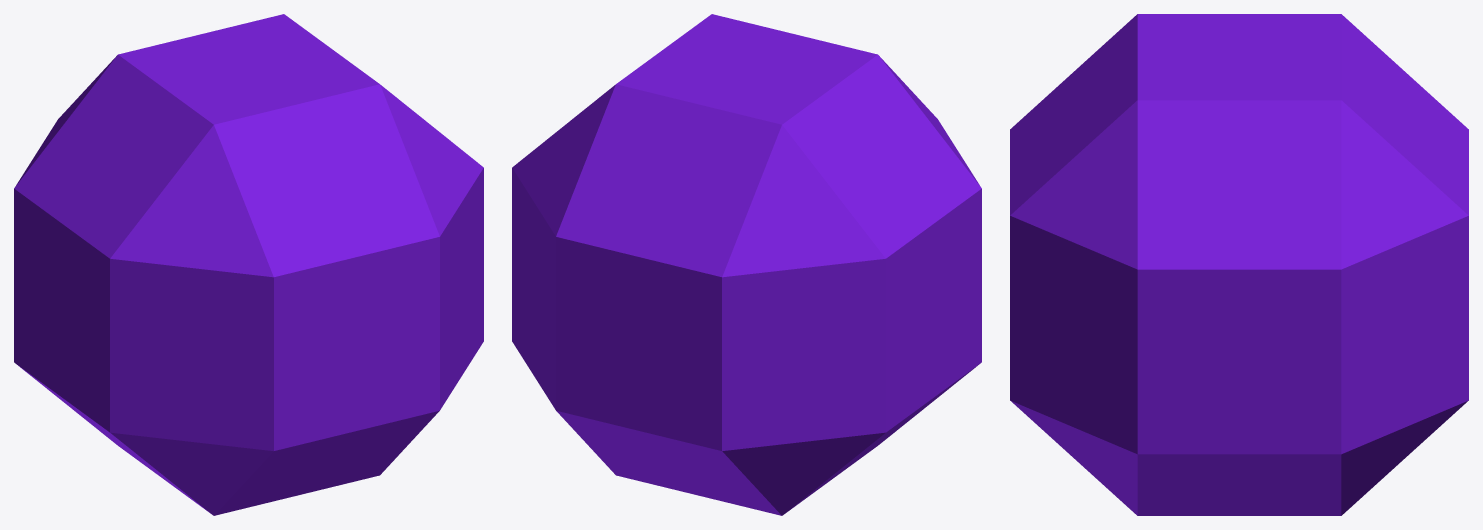
File: model_3351_spotanim.obj
3 renders of one model, left to right at view 1: azimuth 30°, elevation 25°; view 2: azimuth 150°, elevation 25°; view 3: azimuth 270°, elevation 25°, orthographic. The views are drawn at different scales.
Parts seen in each view (by area): view 1: 3351; view 2: 3351; view 3: 3351.
Part boxes in pixels (x1,y1,x2,y2): 3351: (14, 14, 483, 515); 3351: (512, 14, 981, 515); 3351: (1010, 14, 1468, 515).
Bounding box in the file's own units: 18 × 18 × 18.
